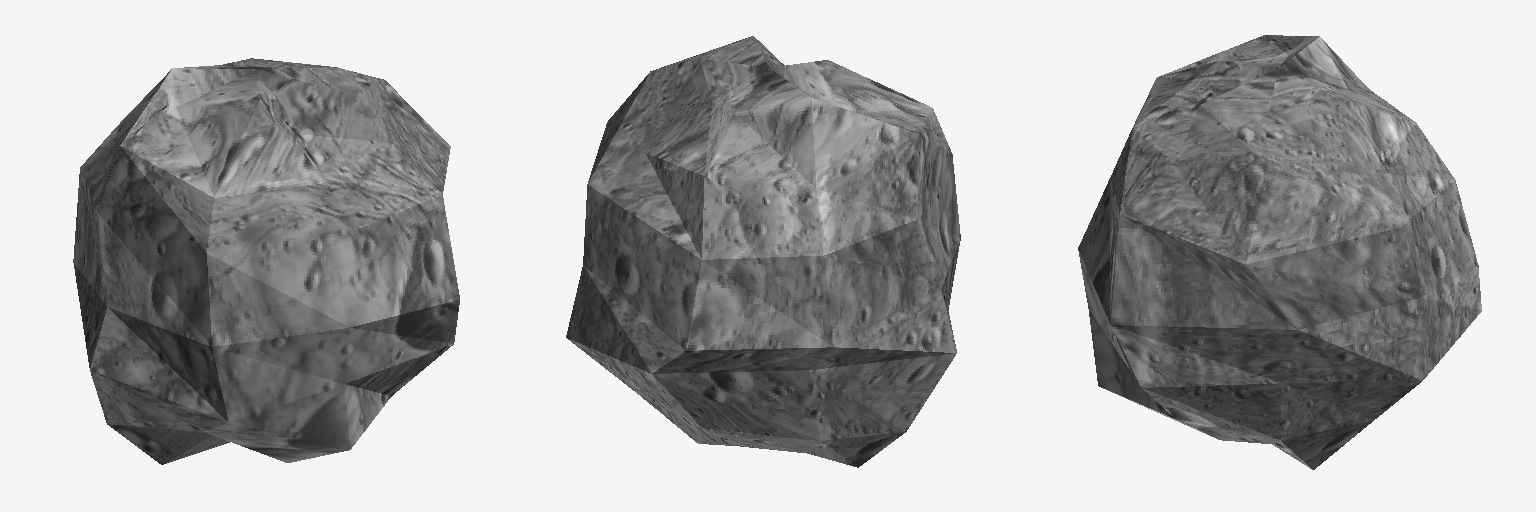
3 views of the same model, side by side, from view 1: azimuth 30°, elevation 25°; view 2: azimuth 150°, elevation 25°; view 3: azimuth 270°, elevation 25° (orthographic).
Visible parts, largest first — view 1: Plane; view 2: Plane; view 3: Plane.
Boxes of the visible parts, <box> form: Plane: <box>73,58,459,464</box>; Plane: <box>566,36,960,467</box>; Plane: <box>1078,35,1481,469</box>.
Size of the model in its own units: 3.64 by 3.69 by 3.58.
Materials: 1 (1 with a texture image).